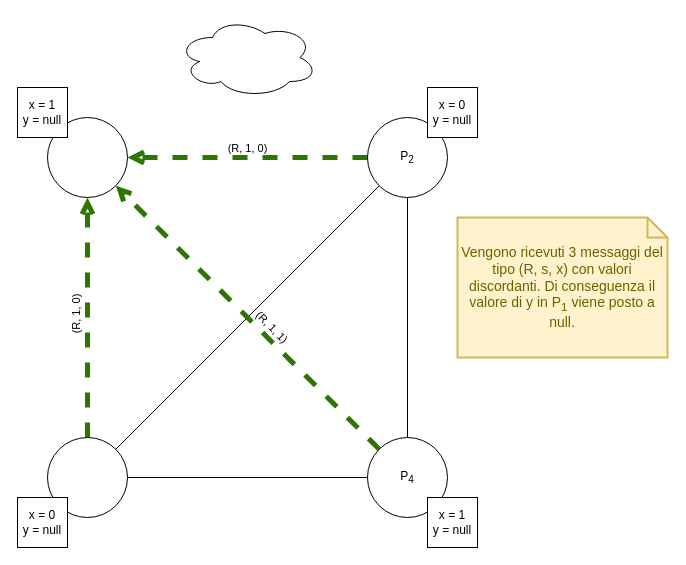
This 686x565 diagram has some shape labels left out. The shapes that lost their labels are listed below. From the top down, each one's centre as x and y in pixels, then its label:
the point at 247,57: Stage 1
the point at 87,157: P 1
the point at 87,477: P 3
